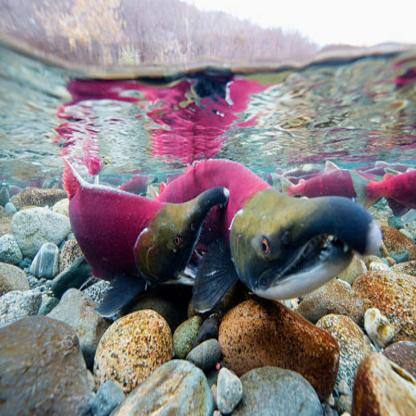sockeye: (160, 155, 373, 304), (61, 160, 224, 288)
